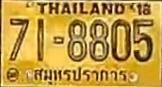0: (110, 18, 130, 61)
1: (36, 18, 44, 61)
5: (132, 18, 153, 61)
7: (8, 17, 28, 60)
8: (88, 19, 109, 61), (66, 19, 86, 61)
SPK: (30, 64, 128, 83)
